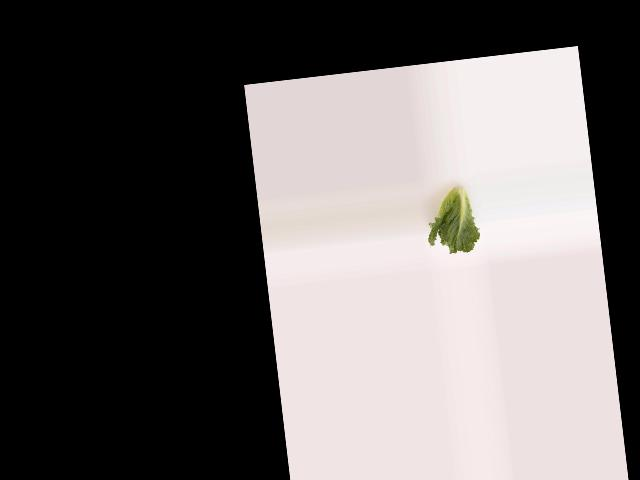lettuce: (424, 176, 483, 258)
